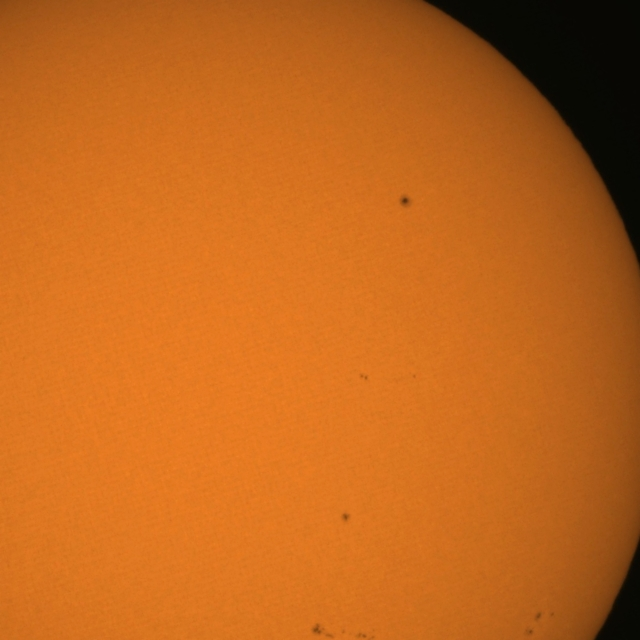sunspot: (330, 627, 370, 640), (310, 622, 340, 639), (524, 610, 543, 634), (530, 610, 556, 624), (352, 630, 376, 640), (398, 194, 412, 209), (340, 512, 351, 524), (524, 626, 534, 638), (358, 372, 369, 382), (533, 610, 542, 622), (411, 372, 418, 380), (550, 612, 555, 618)
